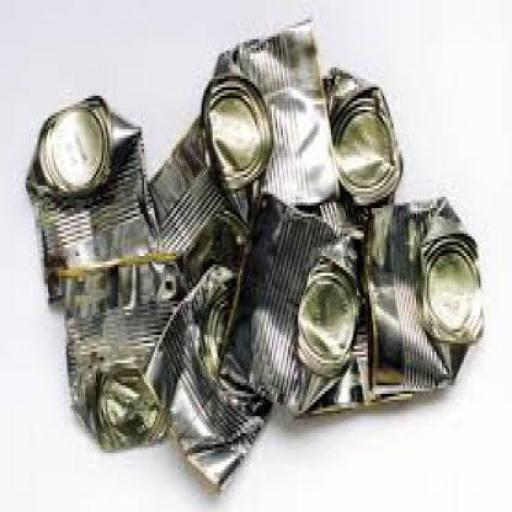metal: (218, 192, 357, 416), (140, 261, 274, 493), (200, 14, 338, 222), (22, 87, 147, 307), (57, 250, 182, 453), (303, 208, 418, 416), (360, 192, 482, 388), (146, 112, 248, 278), (321, 62, 401, 225)
